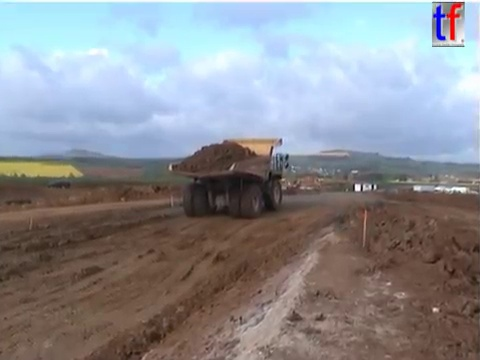truck: (166, 135, 292, 219)
